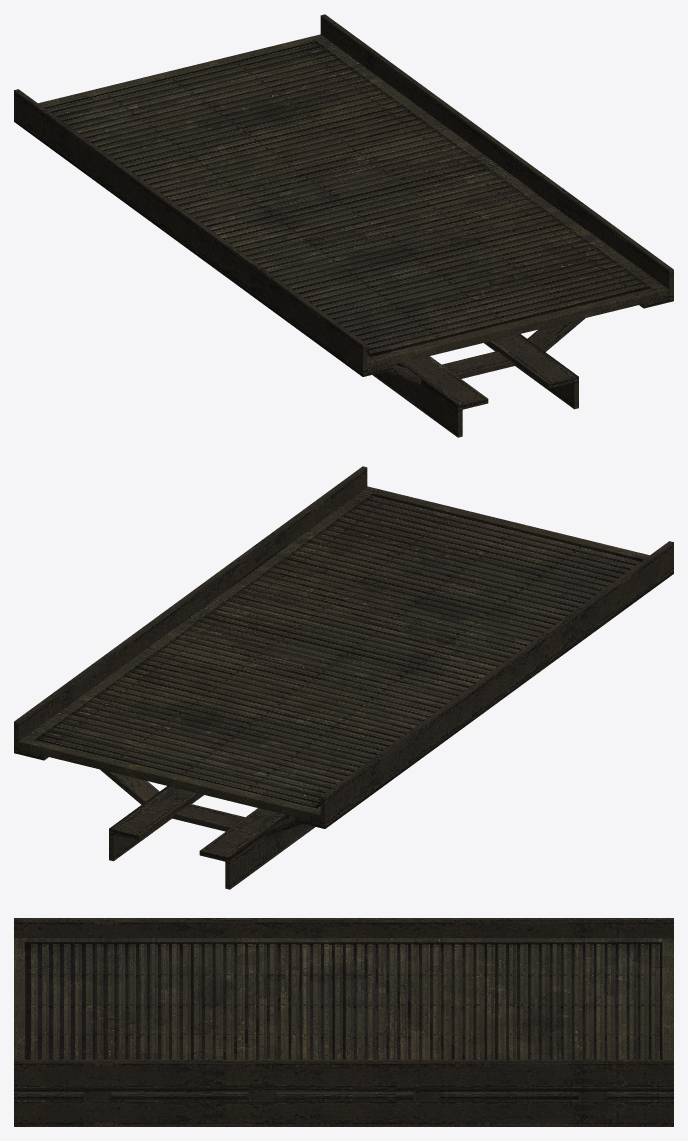
Rendered from platform_bx_1.glb.
The picture shows the model from 3 angles, top to bottom: view 1: azimuth 30°, elevation 25°; view 2: azimuth 150°, elevation 25°; view 3: azimuth 270°, elevation 25°; orthographic projection. The views are drawn at different scales.
Parts seen in each view (by area): view 1: platform_bx_1; view 2: platform_bx_1; view 3: platform_bx_1.
Part boxes in pixels (left/top/right/bottom): platform_bx_1: left=14, top=14, right=673, bottom=437; platform_bx_1: left=14, top=466, right=673, bottom=889; platform_bx_1: left=14, top=918, right=673, bottom=1126.
Bounding box in the file's own units: 2.06 × 0.73 × 4.
Materials: 2 (2 with a texture image).
